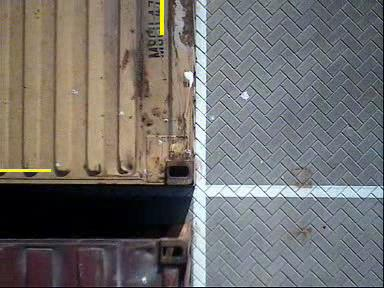groundmarker_2: (56, 173, 148, 241)
